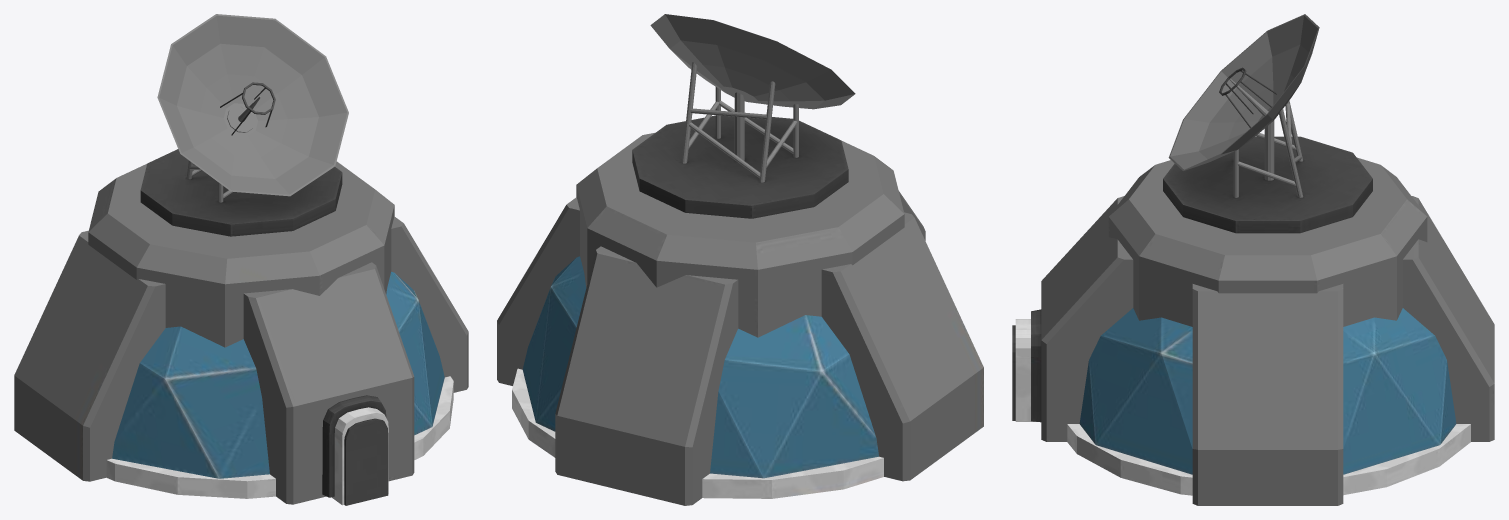
Rendered from torre-comunicaciones.glb.
3 views of the same model, side by side, from view 1: azimuth 30°, elevation 25°; view 2: azimuth 150°, elevation 25°; view 3: azimuth 270°, elevation 25° (orthographic). The views are drawn at different scales.
Parts seen in each view (by area): view 1: CCBY_torre-comunicaciones; view 2: CCBY_torre-comunicaciones; view 3: CCBY_torre-comunicaciones.
Part boxes in pixels (box(x1,y1,x2,y2)): CCBY_torre-comunicaciones: box(14, 14, 468, 505); CCBY_torre-comunicaciones: box(497, 14, 983, 505); CCBY_torre-comunicaciones: box(1012, 14, 1494, 505).
Size of the model in its own units: 6.01 by 5.61 by 6.4.
Materials: 1 (1 with a texture image).
